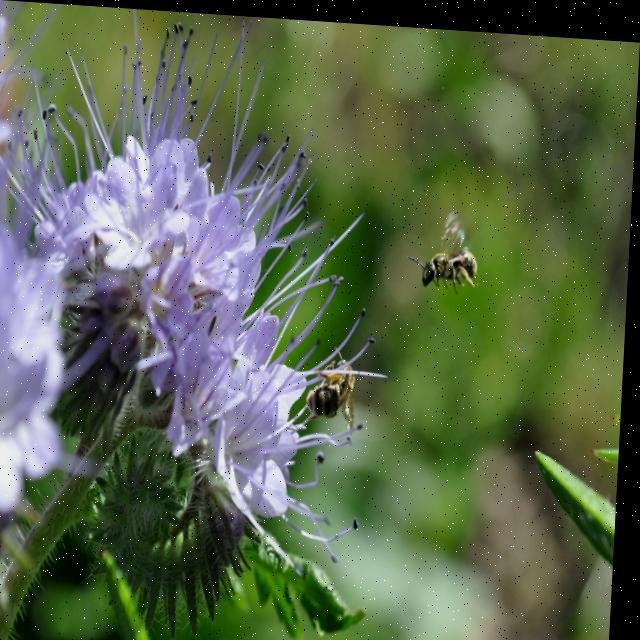Seladonia: (303, 329, 373, 450), (415, 198, 497, 286)
